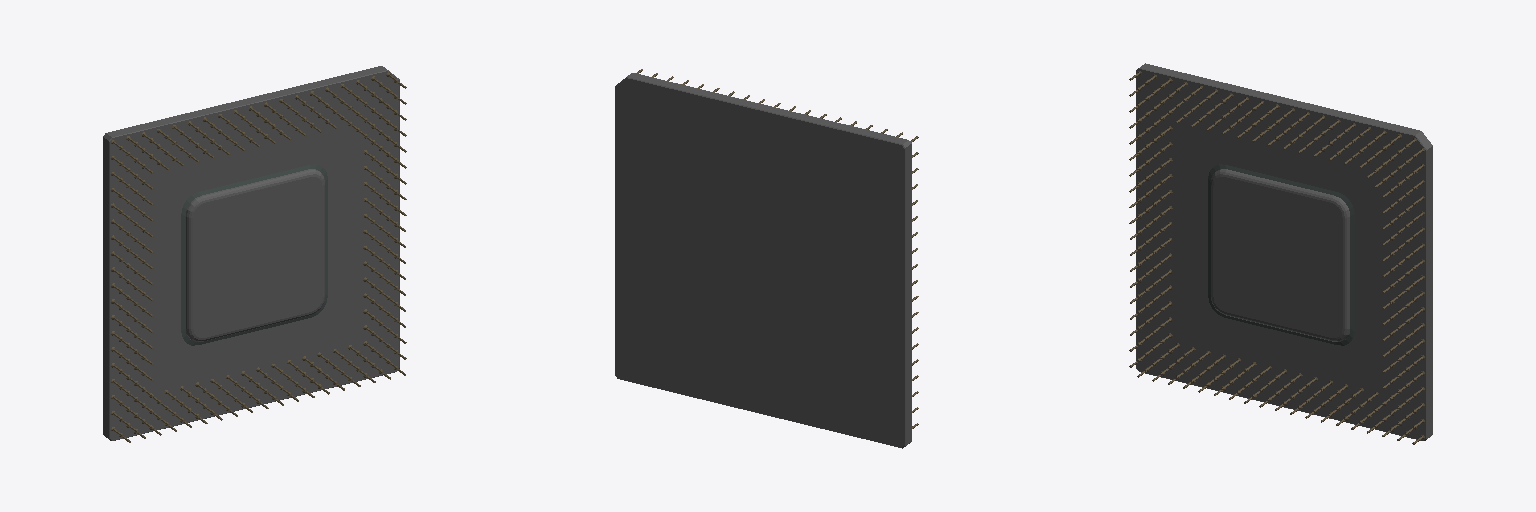
Rendered from cpu.obj.
3 views of the same model, side by side, from view 1: azimuth 30°, elevation 25°; view 2: azimuth 150°, elevation 25°; view 3: azimuth 330°, elevation 25° (orthographic).
Visible parts, largest first — view 1: support, center, connectors, contour; view 2: support, connectors; view 3: support, center, connectors, contour.
Part boxes in pixels (x1,y1,x2,y2): support: (103,66,399,440); center: (186,169,324,341); connectors: (111,72,406,442); contour: (181,164,327,345); support: (615,73,911,448); connectors: (637,69,918,428); support: (1136,63,1432,440); center: (1211,169,1349,341); connectors: (1129,71,1424,444); contour: (1208,164,1354,345).
Bounding box in the file's own units: 33.86 × 33.86 × 3.27.